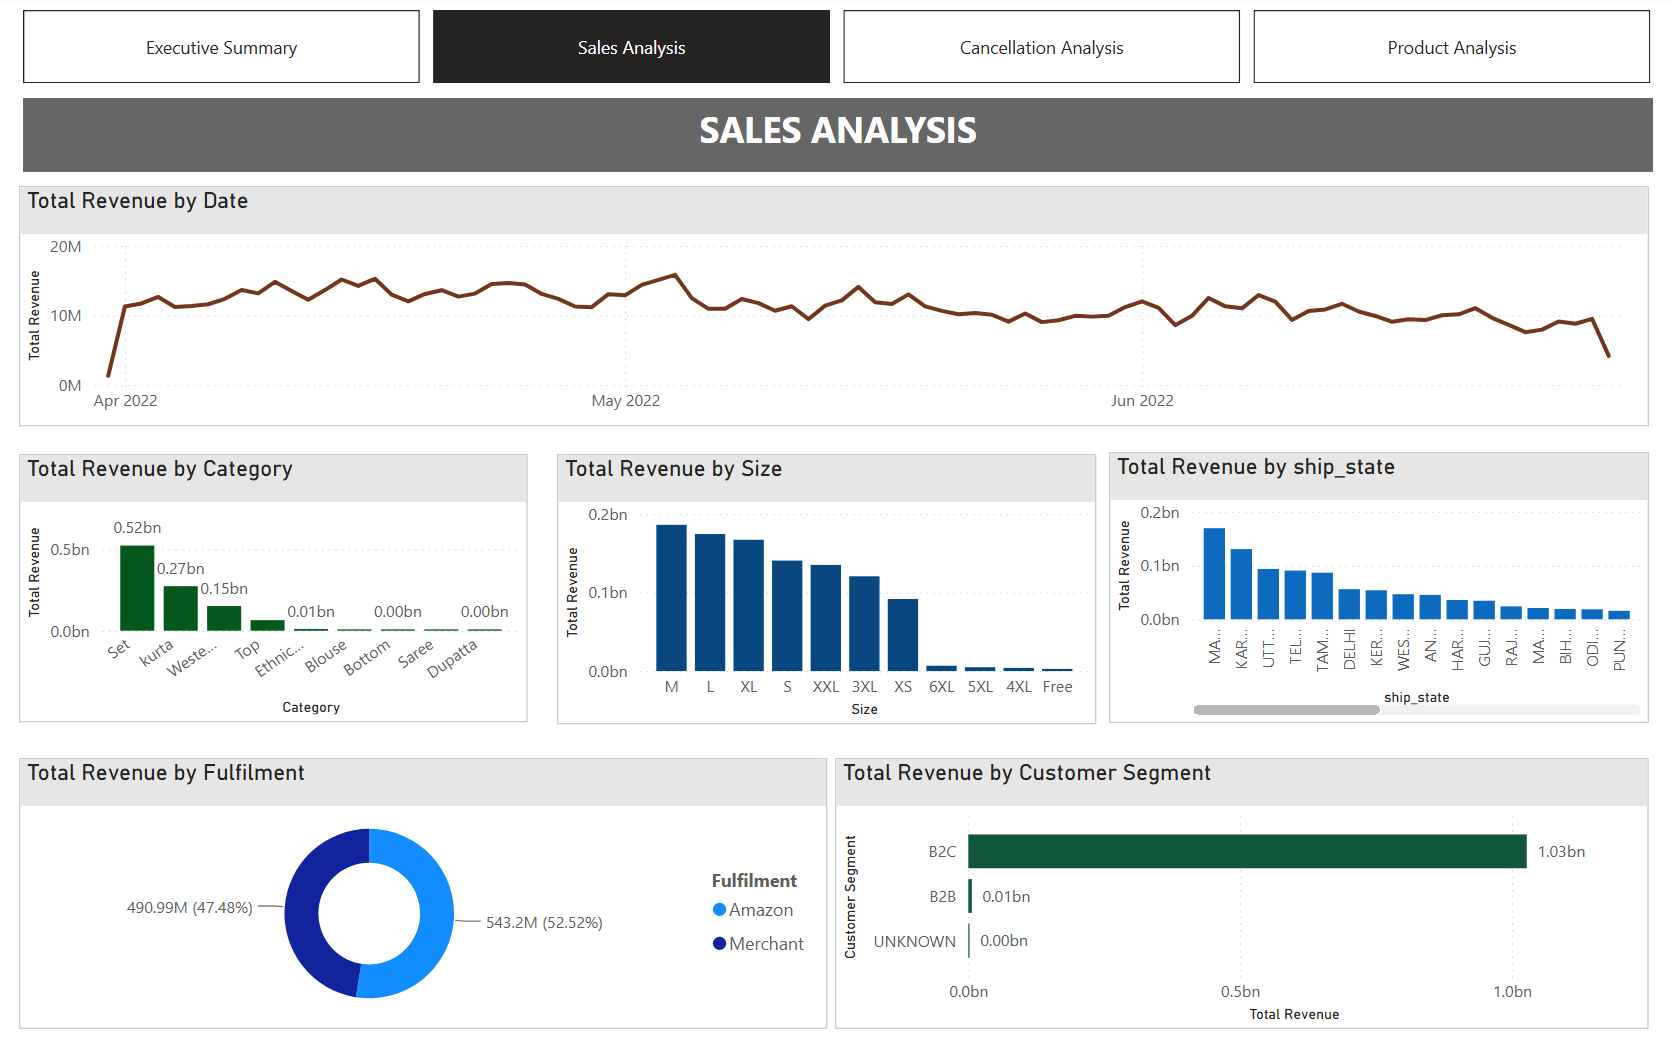

What the dashboard file says about the page in this screenshot:
{"tool":"powerbi","page":{"name":"Sales Analysis","canvas":[1280,829],"ordinal":1},"visuals":[{"type":"lineChart","fields":{"Category":["AMAZONREPORT_BACKUP.Date"],"Y":["AMAZONREPORT_BACKUP.Total Revenue"]},"box":[22.5,144.3,1223.8,180.4],"z":0},{"type":"columnChart","fields":{"Category":["AMAZONREPORT_BACKUP.Size"],"Y":["AMAZONREPORT_BACKUP.Total Revenue"]},"box":[425.9,346,405,203],"z":1000},{"type":"columnChart","fields":{"Y":["AMAZONREPORT_BACKUP.Total Revenue"],"Category":["AMAZONREPORT_BACKUP.Category"]},"box":[22.5,346,382.1,201.7],"z":2000},{"type":"donutChart","fields":{"Category":["AMAZONREPORT_BACKUP.Fulfilment"],"Y":["AMAZONREPORT_BACKUP.Total Revenue"]},"box":[22.5,572.9,607,203.6],"z":3000},{"type":"barChart","fields":{"Category":["AMAZONREPORT_BACKUP.Customer Segment"],"Y":["AMAZONREPORT_BACKUP.Total Revenue"]},"box":[635.3,572.9,610.9,203.6],"z":4000},{"type":"columnChart","fields":{"Y":["AMAZONREPORT_BACKUP.Total Revenue"],"Category":["AMAZONREPORT_BACKUP.ship_state"]},"box":[840.9,344.1,405.3,203.6],"z":5000},{"type":"textbox","box":[25.5,78.1,1224,55.6],"z":6000},{"type":"pageNavigator","box":[25.5,12,1224,55.6],"z":6001}]}

Visuals, with their boxes in screenshot pixels (x1, y1, x2, y2), scaled from the page's 1280x829 canvas onto the 1672x1062 screenshot:
lineChart - AMAZONREPORT_BACKUP.Date x AMAZONREPORT_BACKUP.Total Revenue: 29/185/1628/416
columnChart - AMAZONREPORT_BACKUP.Size x AMAZONREPORT_BACKUP.Total Revenue: 556/443/1085/703
columnChart - AMAZONREPORT_BACKUP.Total Revenue x AMAZONREPORT_BACKUP.Category: 29/443/529/702
donutChart - AMAZONREPORT_BACKUP.Fulfilment x AMAZONREPORT_BACKUP.Total Revenue: 29/734/822/995
barChart - AMAZONREPORT_BACKUP.Customer Segment x AMAZONREPORT_BACKUP.Total Revenue: 830/734/1628/995
columnChart - AMAZONREPORT_BACKUP.Total Revenue x AMAZONREPORT_BACKUP.ship_state: 1098/441/1628/702
textbox: 33/100/1632/171
pageNavigator: 33/15/1632/87
